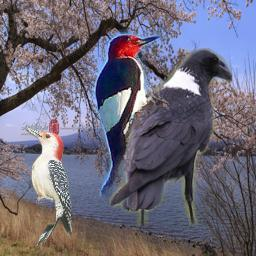Crow: (109, 48, 232, 226)
Woodpecker: (80, 23, 169, 197), (23, 126, 72, 249)
